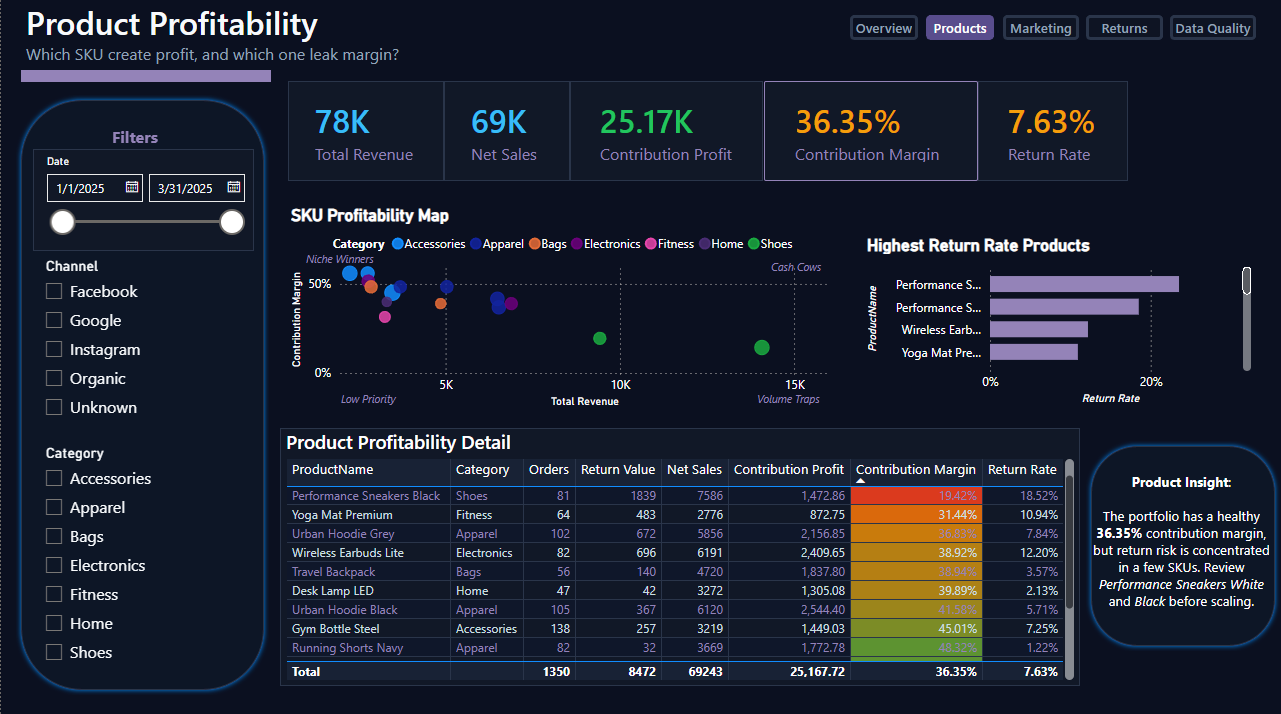

The dashboard page shown, as its layout file describes it:
{"tool":"powerbi","page":{"name":"Products","canvas":[1280,720],"ordinal":1},"visuals":[{"type":"shape","box":[1085,446.4,194.3,210],"z":0},{"type":"textbox","box":[20,0,414.3,100],"z":1000},{"type":"cardVisual","fields":{"Data":["DAX.Contribution Profit"]},"box":[568.8,85.8,193.1,100],"z":2000},{"type":"cardVisual","fields":{"Data":["DAX.Contribution Margin"]},"box":[762.7,85.8,213.8,100],"z":3000},{"type":"cardVisual","fields":{"Data":["DAX.Return Rate"]},"box":[976.5,85.8,150,100],"z":4000},{"type":"scatterChart","title":"SKU Profitability Map","fields":{"X":["DAX.Total Revenue"],"Y":["DAX.Contribution Margin"],"Size":["DAX.Orders"],"Series":["Dim_product.Category"],"Category":["Dim_product.ProductName"]},"box":[284.7,210,558.3,206.7],"z":5000},{"type":"textbox","box":[764.9,257.1,66.5,30],"z":6000},{"type":"textbox","box":[751.4,388.6,72.5,70.5],"z":7000},{"type":"textbox","box":[334.9,388.6,74.5,51.5],"z":8000},{"type":"textbox","box":[299.6,249,116.9,43.1],"z":9000},{"type":"clusteredBarChart","title":"Highest Return Rate Products","fields":{"Y":["DAX.Return Rate"],"Category":["Dim_product.ProductName"]},"box":[861.2,240,393.8,173.8],"z":10000},{"type":"tableEx","title":"Product Profitability Detail","fields":{"Values":["Dim_product.ProductName","Dim_product.Category","DAX.Orders","DAX.Total Returns","DAX.Net Sales","DAX.Contribution Profit","DAX.Contribution Margin","DAX.Return Rate"]},"box":[279,433,800,258],"z":11000},{"type":"textbox","box":[1081.4,472.5,198.6,247.1],"z":12000},{"type":"shape","box":[20,75,250,11.7],"z":13000},{"type":"shape","box":[14.7,100,252.9,600],"z":14000},{"type":"slicer","fields":{"Values":["Dim_date.Date"]},"box":[31.6,154,221,102],"z":15000},{"type":"slicer","fields":{"Values":["Dim_Channel.Channel"]},"box":[31.6,258,166,174],"z":16000},{"type":"slicer","fields":{"Values":["Dim_product.Category"]},"box":[32.2,445,191.2,255],"z":17000},{"type":"textbox","box":[106.4,125.8,69.2,35],"z":18000},{"type":"cardVisual","fields":{"Data":["DAX.Total Revenue"]},"box":[287.3,85.8,156.2,100],"z":19000},{"type":"cardVisual","fields":{"Data":["DAX.Net Sales"]},"box":[443.5,85.8,125.4,100],"z":20000},{"type":"actionButton","box":[849.2,20,67.7,25.4],"z":21000},{"type":"actionButton","box":[924.6,20,68.5,25.4],"z":22000},{"type":"actionButton","box":[1001.5,20,76.9,25.4],"z":23000},{"type":"actionButton","box":[1085,20,77.1,25],"z":24000},{"type":"actionButton","box":[1168.6,20,86.4,25],"z":25000}]}

Visuals, with their boxes in screenshot pixels (x1, y1, x2, y2), scaled from the page's 1280x720 canvas onto the 1281x714 screenshot:
shape: bbox(1086, 443, 1280, 651)
textbox: bbox(20, 0, 435, 99)
cardVisual - DAX.Contribution Profit: bbox(569, 85, 762, 184)
cardVisual - DAX.Contribution Margin: bbox(763, 85, 977, 184)
cardVisual - DAX.Return Rate: bbox(977, 85, 1127, 184)
"SKU Profitability Map" scatterChart: bbox(285, 208, 844, 413)
textbox: bbox(765, 255, 832, 285)
textbox: bbox(752, 385, 825, 455)
textbox: bbox(335, 385, 410, 436)
textbox: bbox(300, 247, 417, 290)
"Highest Return Rate Products" clusteredBarChart: bbox(862, 238, 1256, 410)
"Product Profitability Detail" tableEx: bbox(279, 429, 1080, 685)
textbox: bbox(1082, 469, 1280, 713)
shape: bbox(20, 74, 270, 86)
shape: bbox(15, 99, 268, 694)
slicer - Dim_date.Date: bbox(32, 153, 253, 254)
slicer - Dim_Channel.Channel: bbox(32, 256, 198, 428)
slicer - Dim_product.Category: bbox(32, 441, 224, 694)
textbox: bbox(106, 125, 176, 159)
cardVisual - DAX.Total Revenue: bbox(288, 85, 444, 184)
cardVisual - DAX.Net Sales: bbox(444, 85, 569, 184)
actionButton: bbox(850, 20, 918, 45)
actionButton: bbox(925, 20, 994, 45)
actionButton: bbox(1002, 20, 1079, 45)
actionButton: bbox(1086, 20, 1163, 45)
actionButton: bbox(1170, 20, 1256, 45)
